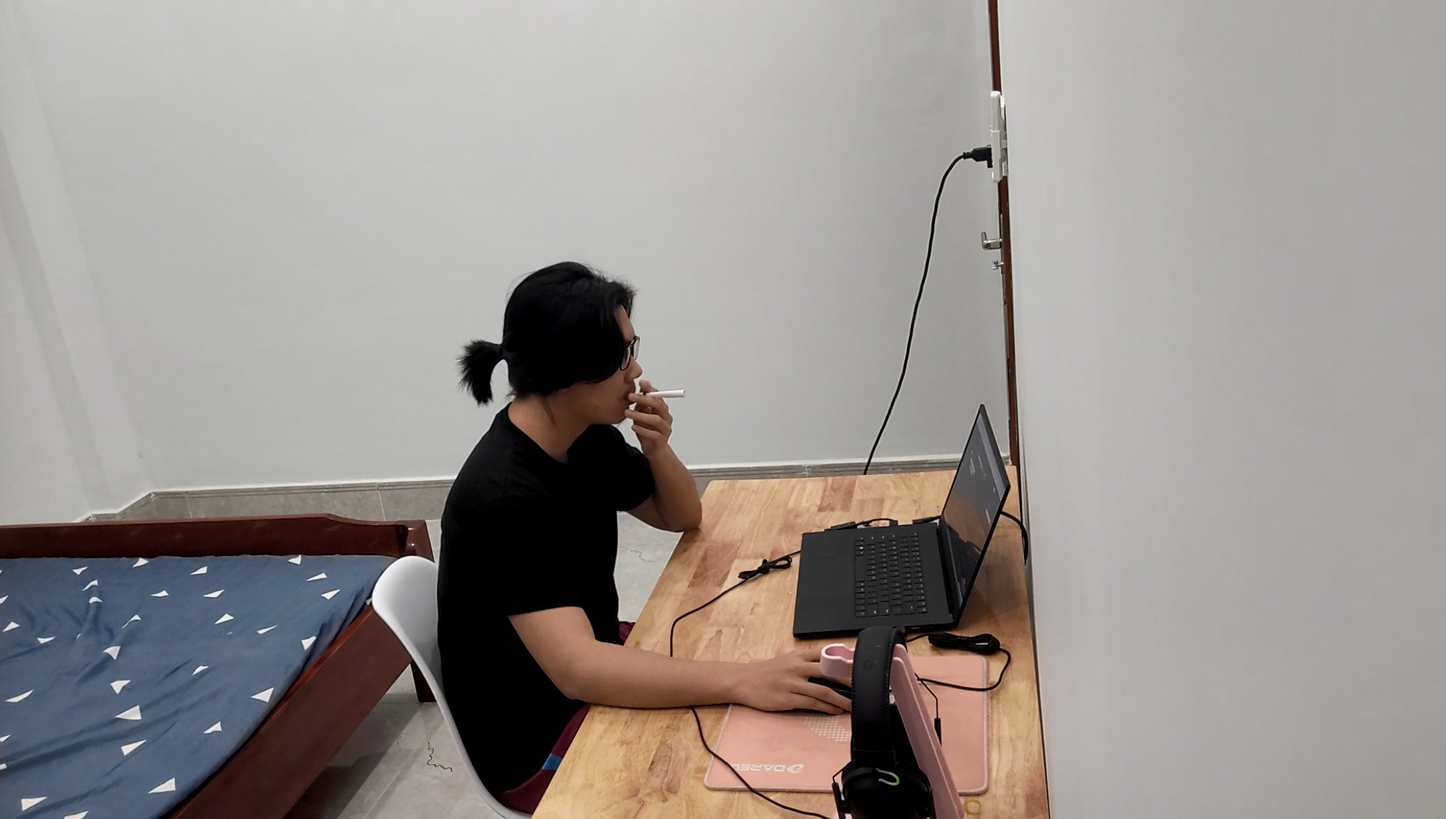cigarette: (635, 379, 695, 403)
person: (420, 235, 732, 812)
